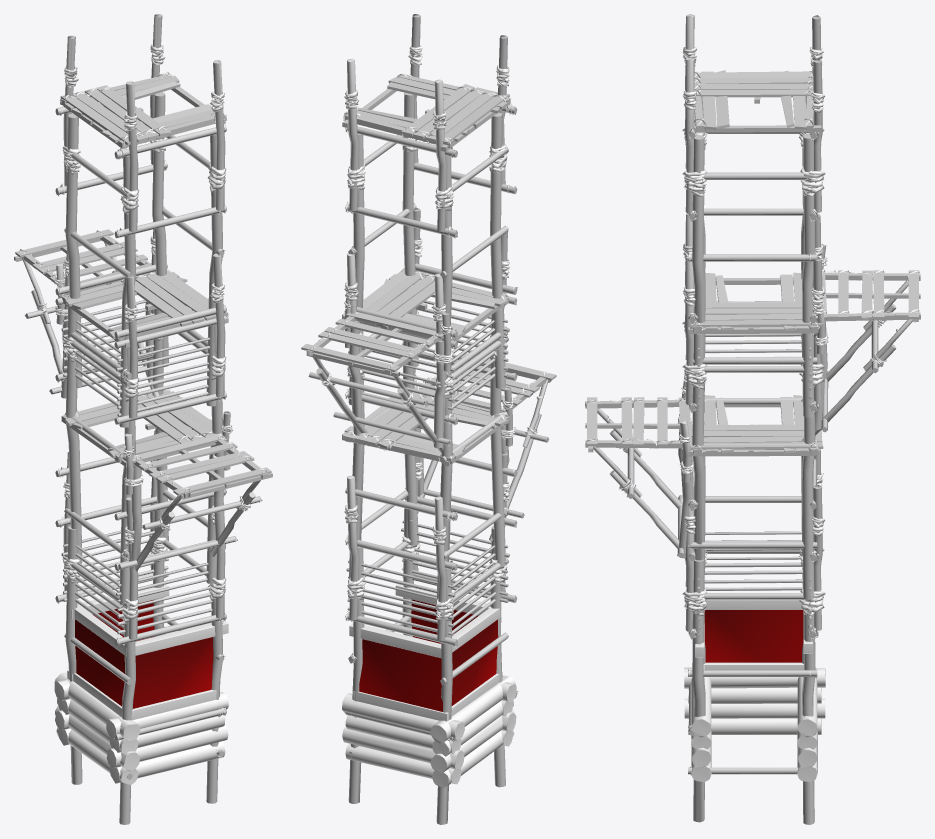
Rendered from SM_WoodTower_02a.fbx.
The picture shows the model from 3 angles, left to right: view 1: azimuth 30°, elevation 25°; view 2: azimuth 150°, elevation 25°; view 3: azimuth 270°, elevation 25°; orthographic projection. The views are drawn at different scales.
Visible parts, largest first — view 1: SM_WoodTower_02a_LOD0; view 2: SM_WoodTower_02a_LOD0; view 3: SM_WoodTower_02a_LOD0.
Part boxes in pixels (x1,y1,x2,y2): SM_WoodTower_02a_LOD0: (14,14,272,824); SM_WoodTower_02a_LOD0: (301,14,556,824); SM_WoodTower_02a_LOD0: (585,14,920,824).
Bounding box in the file's own units: 289 × 696 × 1741.
